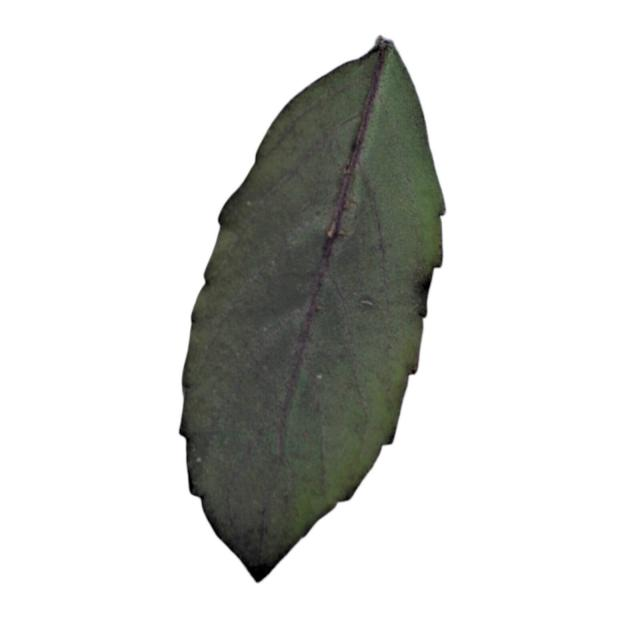tulsi: (179, 34, 447, 587)
